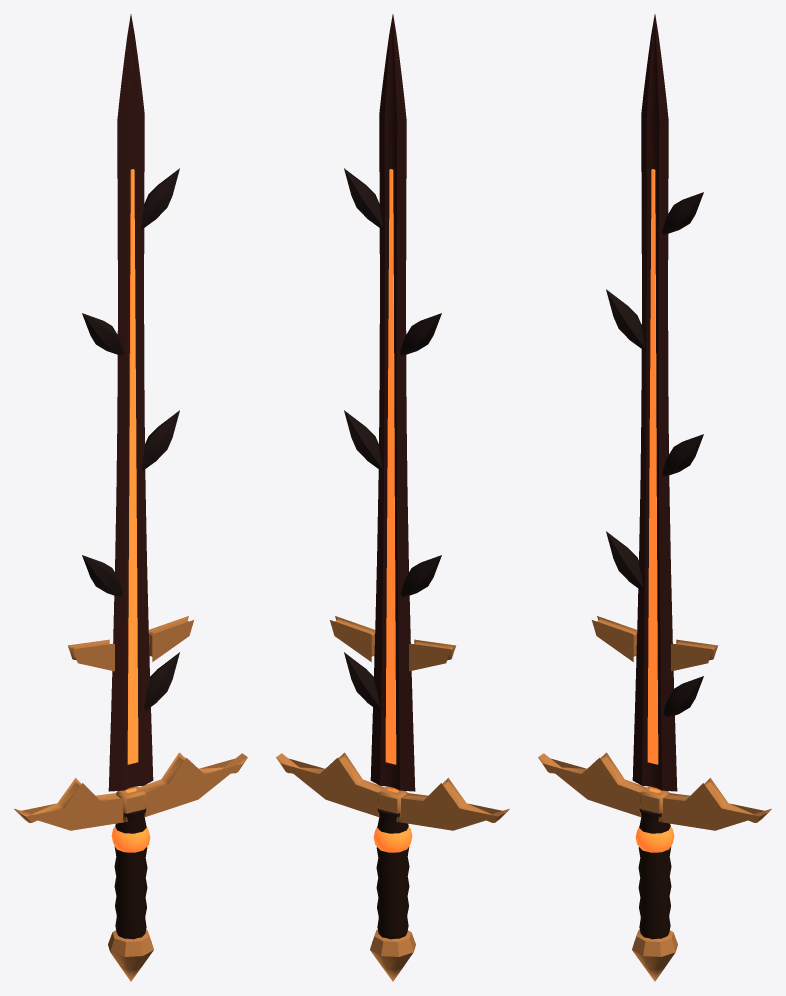
File: asc_titanblood_champion_weapon.glb
3 views of the same model, side by side, from view 1: azimuth 30°, elevation 25°; view 2: azimuth 150°, elevation 25°; view 3: azimuth 330°, elevation 25° (orthographic).
Parts seen in each view (by area): view 1: asc_titanblood_champion_weapon; view 2: asc_titanblood_champion_weapon; view 3: asc_titanblood_champion_weapon.
Part boxes in pixels (x1,y1,x2,y2): asc_titanblood_champion_weapon: (14,14,247,981); asc_titanblood_champion_weapon: (276,14,509,981); asc_titanblood_champion_weapon: (538,14,771,981).
Size of the model in its own units: 0.2974 by 1.2 by 0.054.
